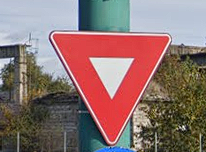cedeaza: (49, 28, 172, 146)
